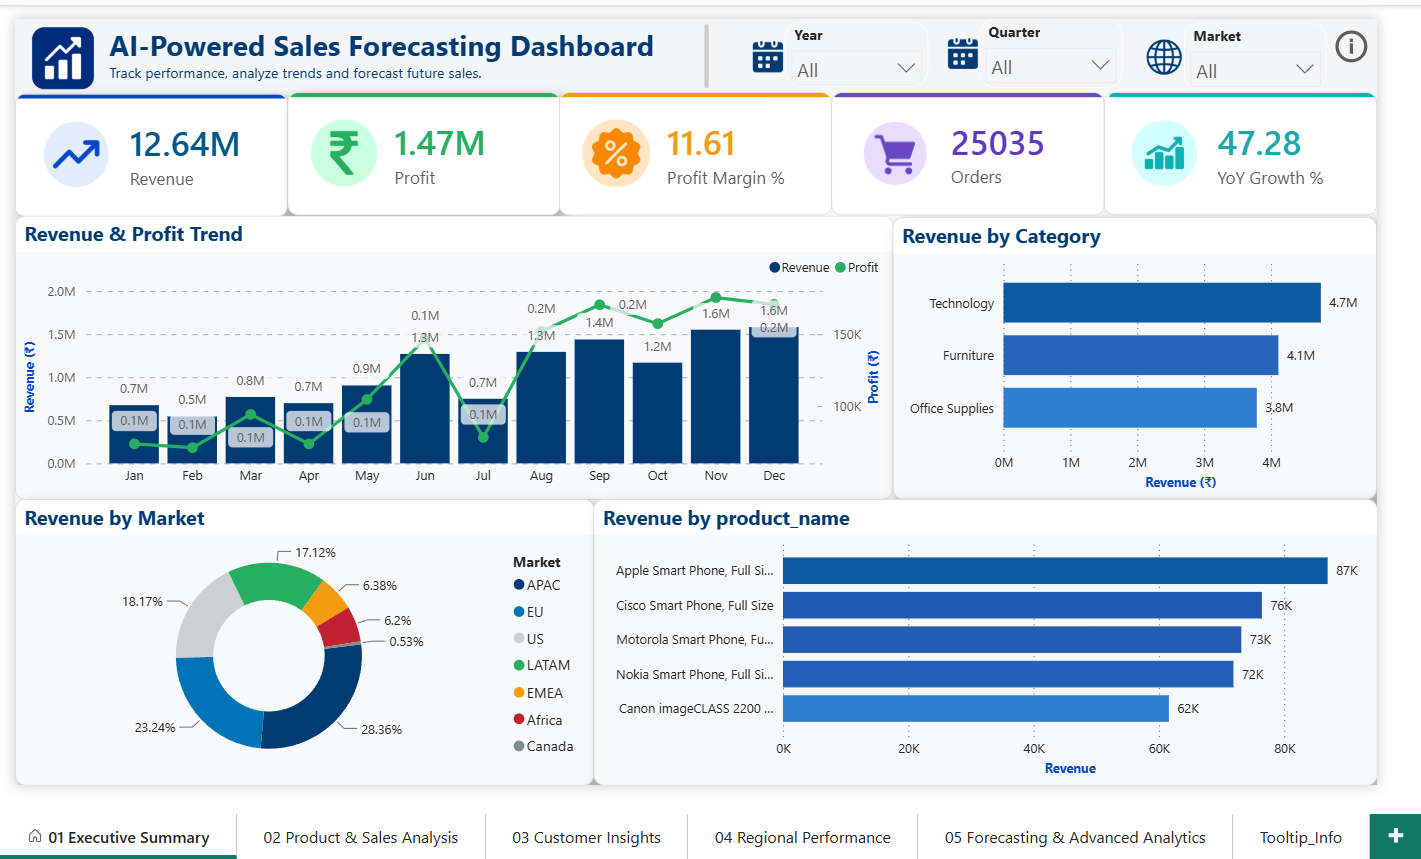

Layout of this report page (visuals, bound fields, positions):
{"tool":"powerbi","page":{"name":"01 Executive Summary","canvas":[1280,720],"ordinal":0},"visuals":[{"type":"textbox","box":[80,0,540.2,69.9],"z":0},{"type":"cardVisual","fields":{"Data":["_KeyMeasures.Revenue"]},"box":[0,69.7,256.3,115.7],"z":1000},{"type":"cardVisual","fields":{"Data":["_KeyMeasures.Profit"]},"box":[256.3,68.4,256.3,115.7],"z":2000},{"type":"cardVisual","fields":{"Data":["_KeyMeasures.YoY Growth %"]},"box":[1024,68.4,256.3,115.7],"z":3000},{"type":"lineClusteredColumnComboChart","title":"Revenue & Profit Trend","fields":{"Category":["dim_date.month_name_short"],"Y":["_KeyMeasures.Revenue"],"Y2":["_KeyMeasures.Profit"]},"box":[0,184.5,825.6,266.8],"z":4000},{"type":"donutChart","title":"Revenue by Market","fields":{"Category":["dim_region.market"],"Y":["_KeyMeasures.Revenue"]},"box":[0,451.3,544.2,269.4],"z":5000},{"type":"clusteredBarChart","title":"Revenue by Category","fields":{"Category":["dim_product.category"],"Y":["_KeyMeasures.Revenue"]},"box":[825.6,185.8,455.3,265.5],"z":6000},{"type":"clusteredBarChart","fields":{"Category":["dim_product.product_name"],"Y":["_KeyMeasures.Revenue"]},"box":[543.8,451.4,736.9,268.9],"z":7000},{"type":"slicer","fields":{"Values":["dim_date.year"]},"box":[723.1,1.9,134.4,60.6],"z":8000},{"type":"slicer","fields":{"Values":["dim_date.quarter"]},"box":[905.6,0,134.4,64.4],"z":9000},{"type":"slicer","fields":{"Values":["dim_region.market"]},"box":[1099,3.9,134.1,63.1],"z":10000},{"type":"actionButton","box":[1233,0,47.3,51.3],"z":11000},{"type":"cardVisual","fields":{"Data":["_KeyMeasures.Blank"]},"box":[1232.9,0,47.9,51.4],"z":12000},{"type":"cardVisual","fields":{"Data":["_KeyMeasures.Profit Margin %"]},"box":[511.4,68.4,256.3,115.7],"z":13000},{"type":"cardVisual","fields":{"Data":["_KeyMeasures.Orders"]},"box":[767.7,68.4,256.3,115.7],"z":14000},{"type":"image","box":[0,3.6,90,66.3],"z":15000},{"type":"image","box":[684.4,5.6,45,54.4],"z":16000},{"type":"image","box":[868.1,3.8,44.4,53.8],"z":17000},{"type":"image","box":[1061.2,12.5,37.5,46.2],"z":18000},{"type":"shape","box":[620,4.4,60,60],"z":19000}]}

Visuals, with their boxes on the page's 1280x720 design canvas (x1, y1, x2, y2). These are canvas units, not pixel positions in the 1421x859 screenshot, which may show the page scaled, cropped or inside an application window:
textbox: {"left": 80, "top": 0, "right": 620, "bottom": 70}
cardVisual - _KeyMeasures.Revenue: {"left": 0, "top": 70, "right": 256, "bottom": 185}
cardVisual - _KeyMeasures.Profit: {"left": 256, "top": 68, "right": 513, "bottom": 184}
cardVisual - _KeyMeasures.YoY Growth %: {"left": 1024, "top": 68, "right": 1280, "bottom": 184}
"Revenue & Profit Trend" lineClusteredColumnComboChart: {"left": 0, "top": 184, "right": 826, "bottom": 451}
"Revenue by Market" donutChart: {"left": 0, "top": 451, "right": 544, "bottom": 721}
"Revenue by Category" clusteredBarChart: {"left": 826, "top": 186, "right": 1281, "bottom": 451}
clusteredBarChart - dim_product.product_name x _KeyMeasures.Revenue: {"left": 544, "top": 451, "right": 1281, "bottom": 720}
slicer - dim_date.year: {"left": 723, "top": 2, "right": 858, "bottom": 62}
slicer - dim_date.quarter: {"left": 906, "top": 0, "right": 1040, "bottom": 64}
slicer - dim_region.market: {"left": 1099, "top": 4, "right": 1233, "bottom": 67}
actionButton: {"left": 1233, "top": 0, "right": 1280, "bottom": 51}
cardVisual - _KeyMeasures.Blank: {"left": 1233, "top": 0, "right": 1281, "bottom": 51}
cardVisual - _KeyMeasures.Profit Margin %: {"left": 511, "top": 68, "right": 768, "bottom": 184}
cardVisual - _KeyMeasures.Orders: {"left": 768, "top": 68, "right": 1024, "bottom": 184}
image: {"left": 0, "top": 4, "right": 90, "bottom": 70}
image: {"left": 684, "top": 6, "right": 729, "bottom": 60}
image: {"left": 868, "top": 4, "right": 912, "bottom": 58}
image: {"left": 1061, "top": 12, "right": 1099, "bottom": 59}
shape: {"left": 620, "top": 4, "right": 680, "bottom": 64}
